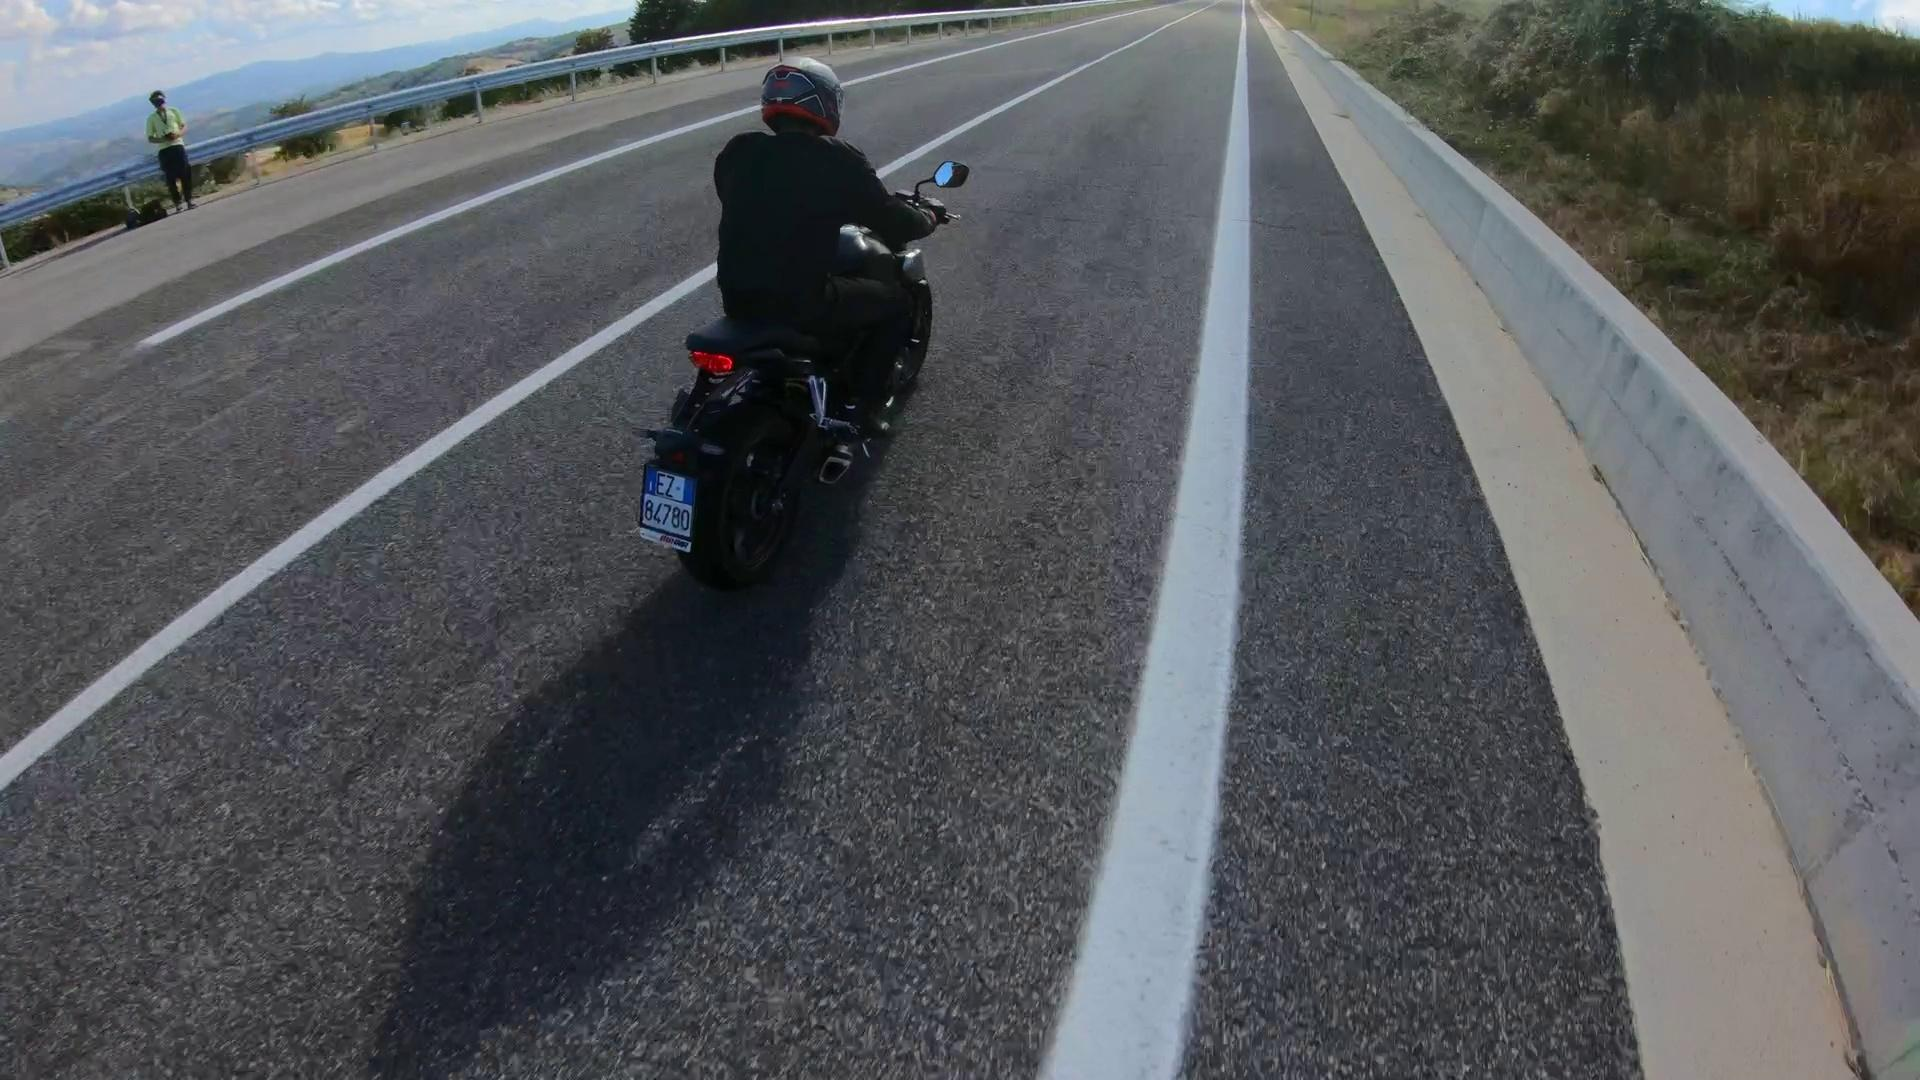cow: (642, 155, 973, 600)
horse: (710, 50, 952, 462)
